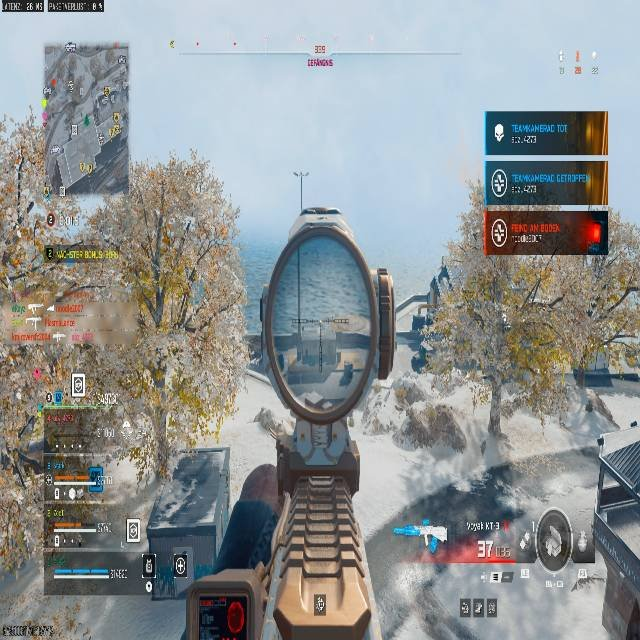player: (415, 342, 430, 372)
